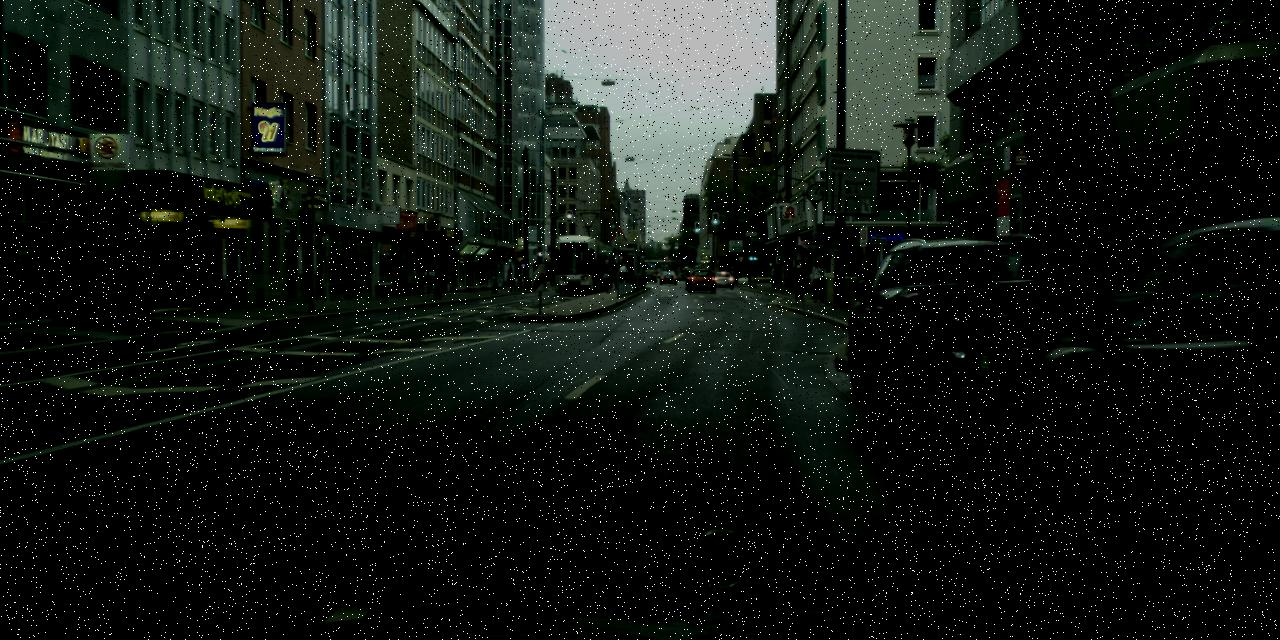ped: (589, 260, 633, 295), (808, 258, 825, 301), (790, 259, 807, 302), (770, 264, 781, 288)
